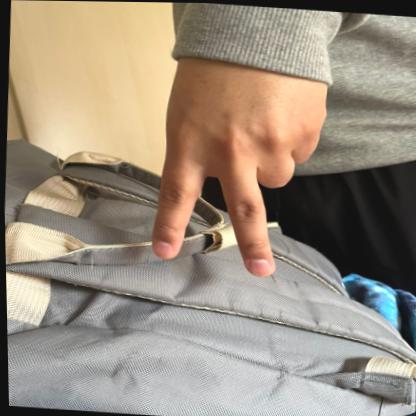N: (147, 39, 336, 285)
